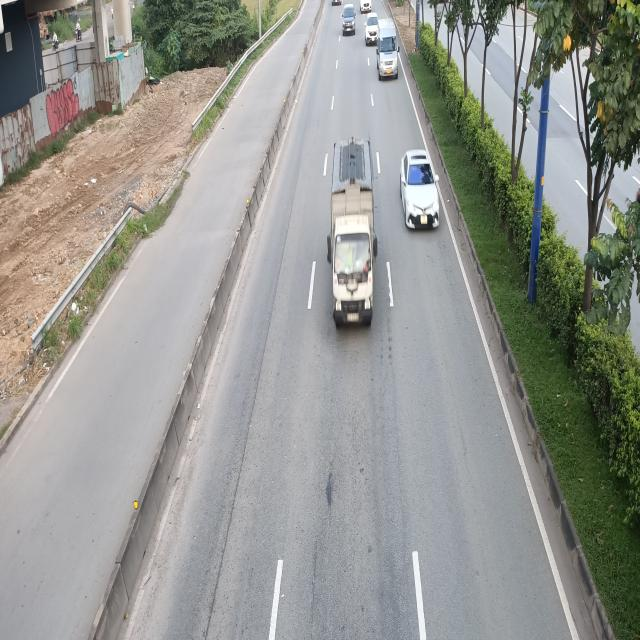car: (400, 152, 440, 232)
truck: (327, 133, 378, 326)
van: (376, 18, 400, 78)
